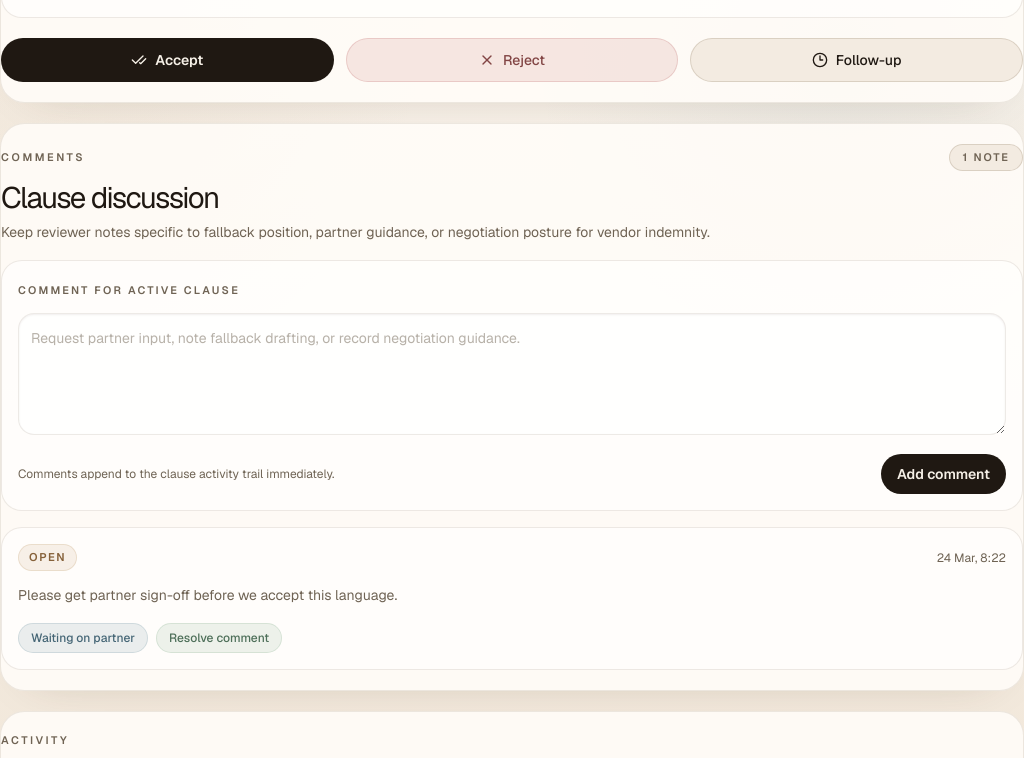
Test: ReviewWorkspace › adds a comment and appends it to the activity panel
The image size is (1024, 758).
(page scrolled)
Type "Please get partner input on the indemnity carve-out before we close this." into the text box labelled "Comment for active clause" at (512, 374), box left=18, top=313, right=1006, bottom=435
(page scrolled)
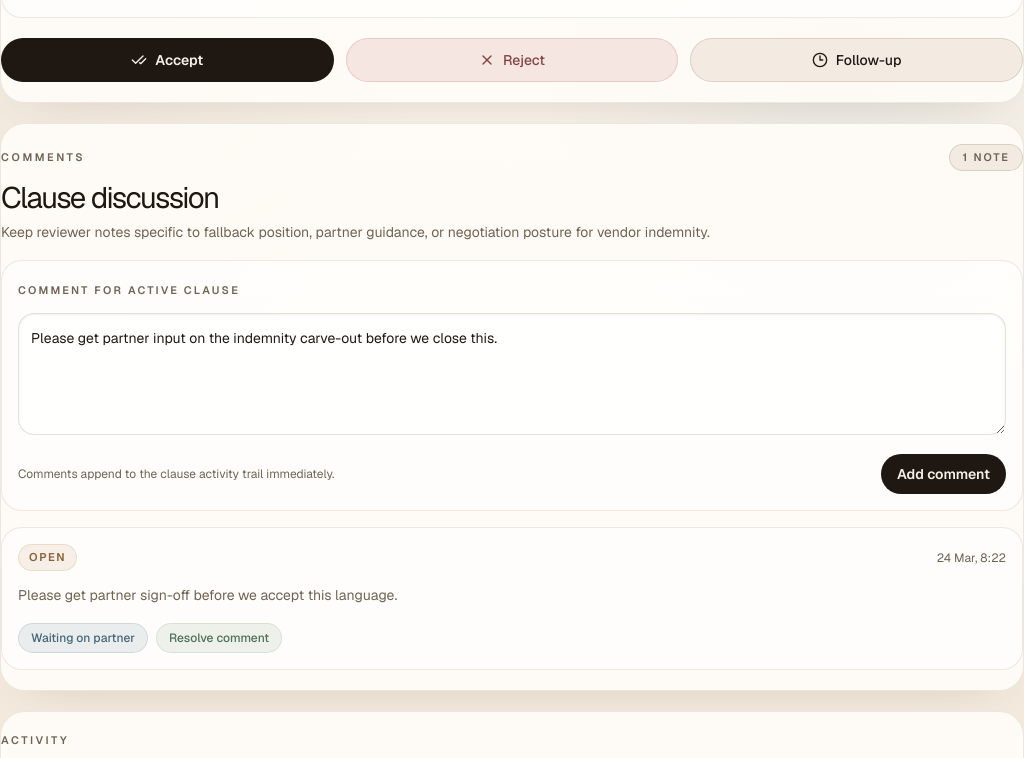
Click the button "Add comment" at (944, 474), box left=881, top=454, right=1006, bottom=494
(page scrolled)
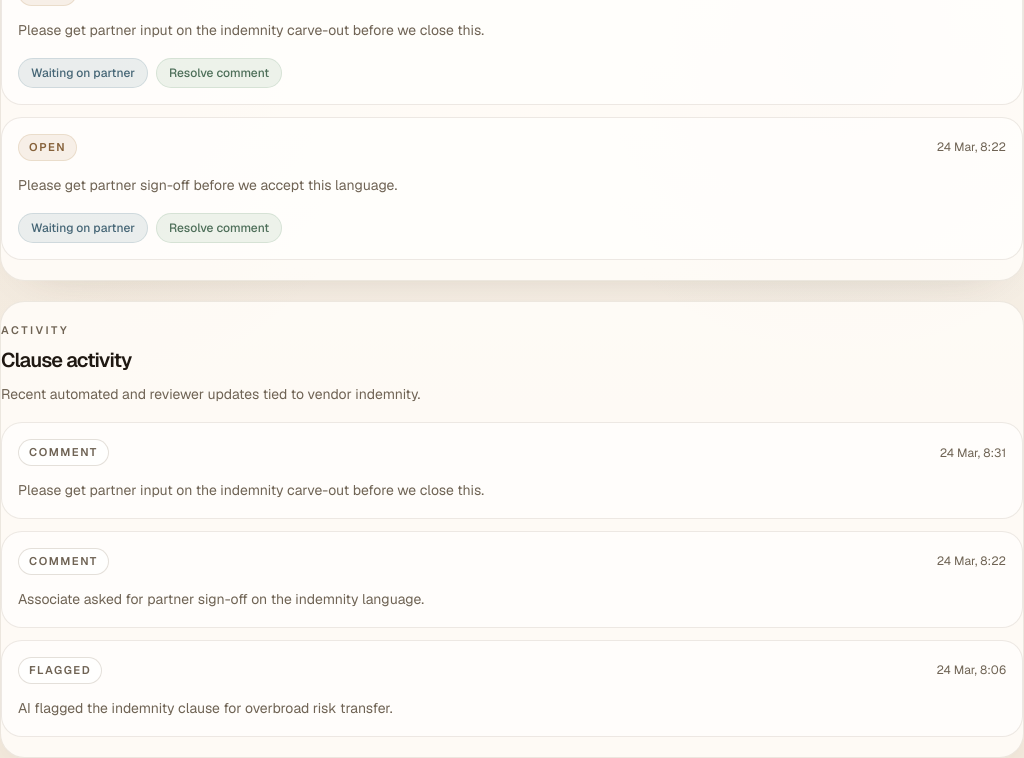
Expected: the 2nd text "Please get partner input on the indemnity carve-out before we close this." is shown, left=18, top=481, right=484, bottom=499
